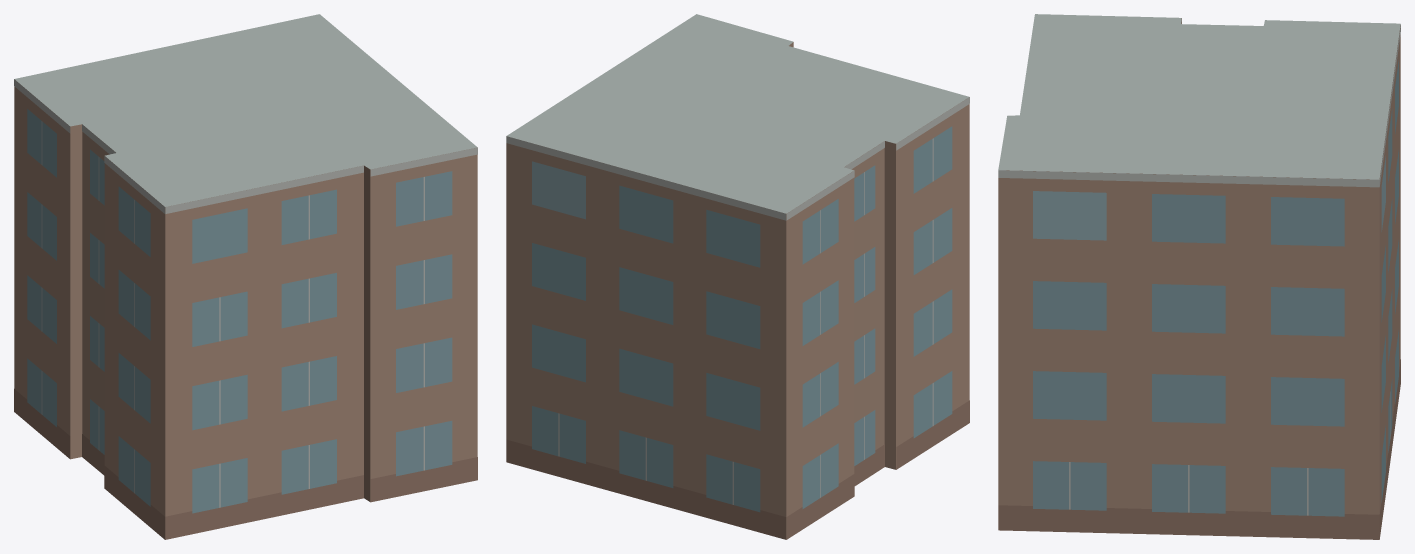
The model's file is survey-upis-32878066.glb.
The picture shows the model from 3 angles, left to right: view 1: azimuth 30°, elevation 25°; view 2: azimuth 150°, elevation 25°; view 3: azimuth 270°, elevation 25°; orthographic projection. The views are drawn at different scales.
Visible parts, largest first — view 1: survey-upis-32878066.tmp; view 2: survey-upis-32878066.tmp; view 3: survey-upis-32878066.tmp.
Part boxes in pixels (bbox=[...]): survey-upis-32878066.tmp: bbox=[14, 14, 477, 539]; survey-upis-32878066.tmp: bbox=[506, 14, 969, 539]; survey-upis-32878066.tmp: bbox=[998, 14, 1400, 539].
Size of the model in its own units: 11.26 by 11.4 by 11.56.
